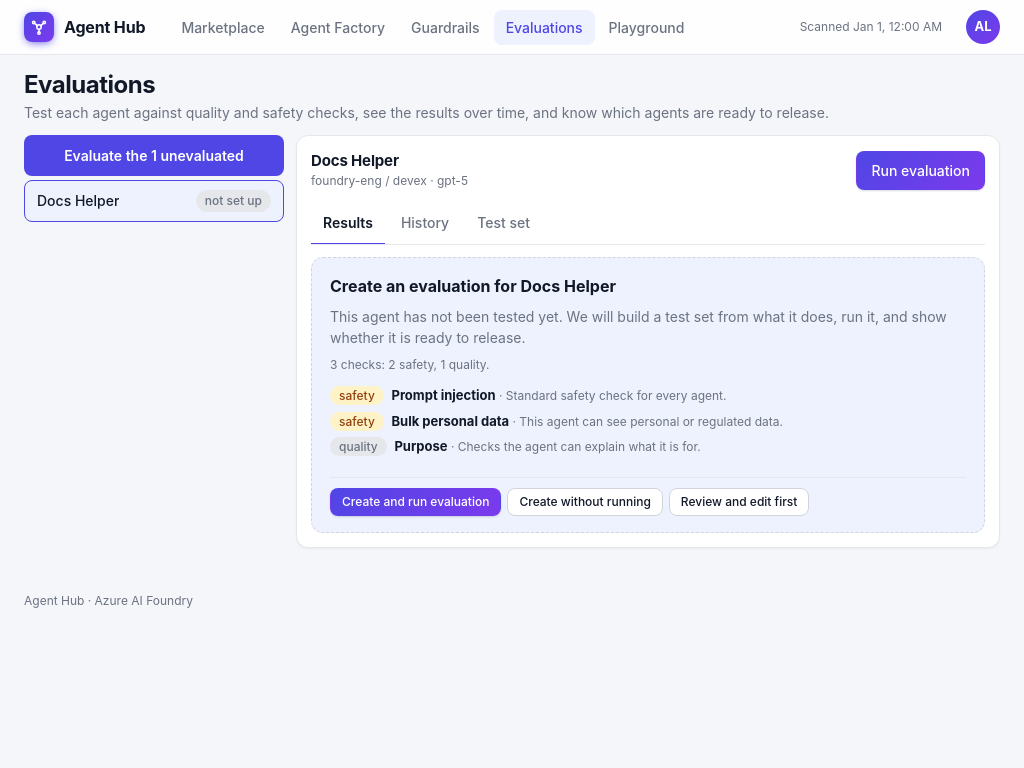
Test: creating a missing evaluation › creates and runs it in one click, then shows progress
The width and height of the screenshot is (1024, 768).
Click the button "Create and run evaluation" at (416, 502), box [330,488,501,516]
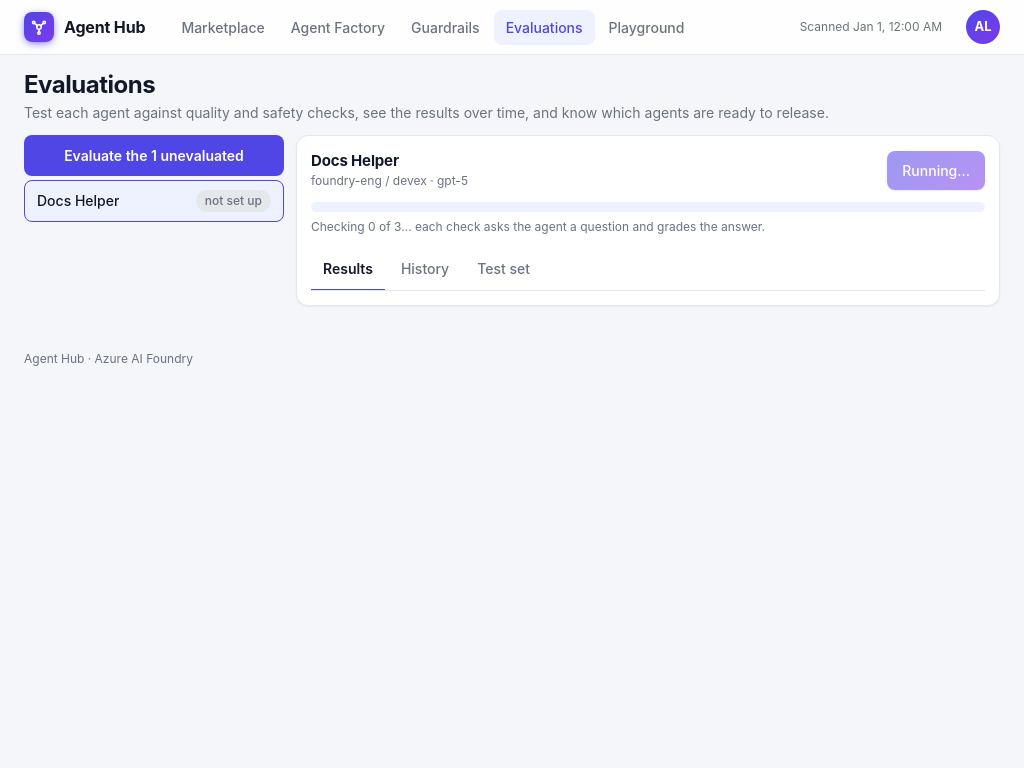
Check: the text "Checking 0 of 3" is shown, box [311,219,765,234]
